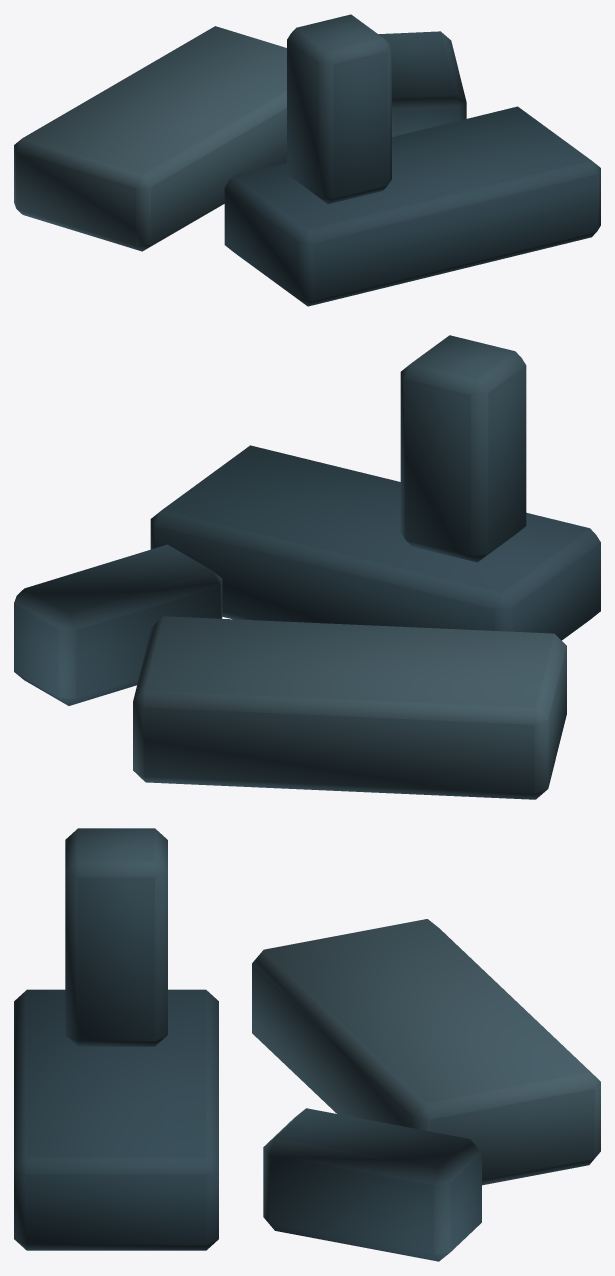
Rendered from fence_01_broken_hue_3.fbx.
3 views of the same model, one above another, from view 1: azimuth 30°, elevation 25°; view 2: azimuth 150°, elevation 25°; view 3: azimuth 270°, elevation 25° (orthographic). The views are drawn at different scales.
Parts seen in each view (by area): view 1: fence_01_broken_hue_3; view 2: fence_01_broken_hue_3; view 3: fence_01_broken_hue_3.
Boxes of the visible parts, bbox=[...] form: fence_01_broken_hue_3: bbox=[14, 14, 600, 306]; fence_01_broken_hue_3: bbox=[14, 335, 600, 799]; fence_01_broken_hue_3: bbox=[14, 828, 600, 1261].
Bounding box in the file's own units: 150 × 75 × 143.
